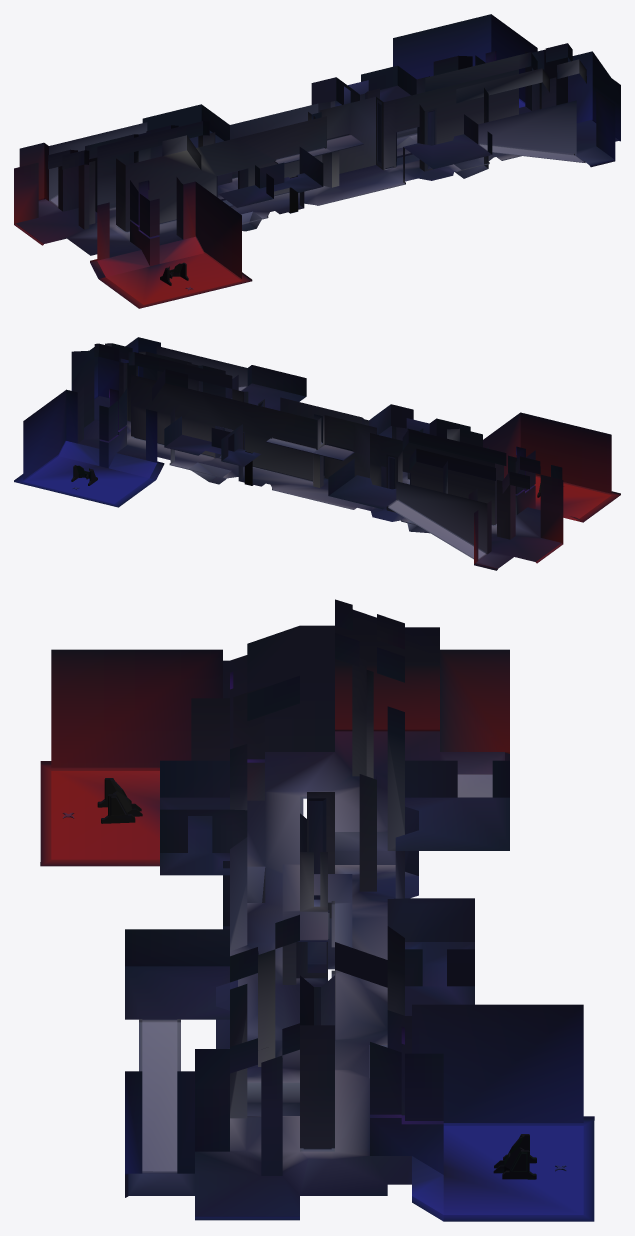
File: LNG.glb
The picture shows the model from 3 angles, top to bottom: view 1: azimuth 30°, elevation 25°; view 2: azimuth 150°, elevation 25°; view 3: azimuth 270°, elevation 25°; orthographic projection. The views are drawn at different scales.
Visible parts, largest first — view 1: LNG; view 2: LNG; view 3: LNG.
Boxes of the visible parts, x1=… form: LNG: x1=14, y1=14, x2=620, y2=308; LNG: x1=14, y1=337, x2=620, y2=570; LNG: x1=40, y1=599, x2=594, y2=1221.
Bounding box in the file's own units: 101 × 16.62 × 48.22.
